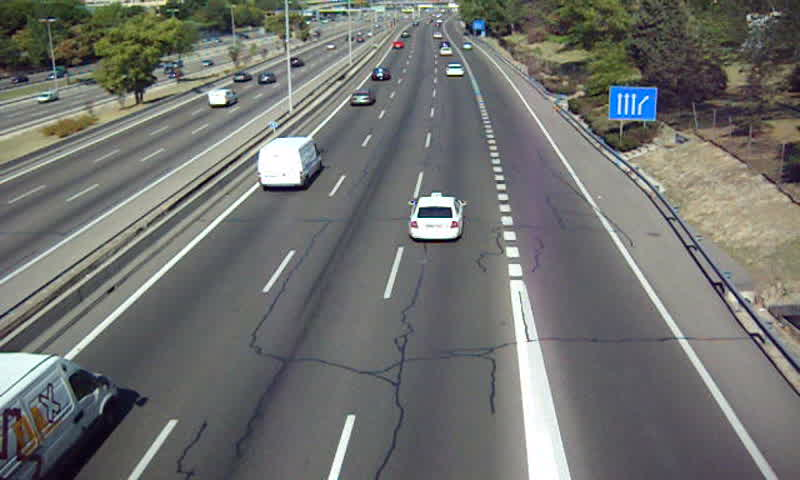car: (409, 195, 462, 240), (348, 90, 374, 109), (372, 66, 392, 83), (444, 62, 465, 77)
van: (257, 137, 322, 189)
